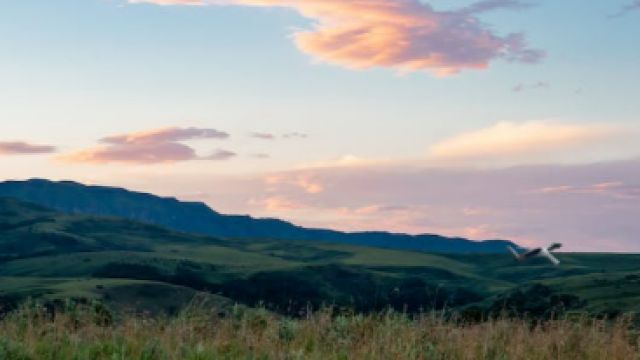military drone: (505, 241, 562, 266)
